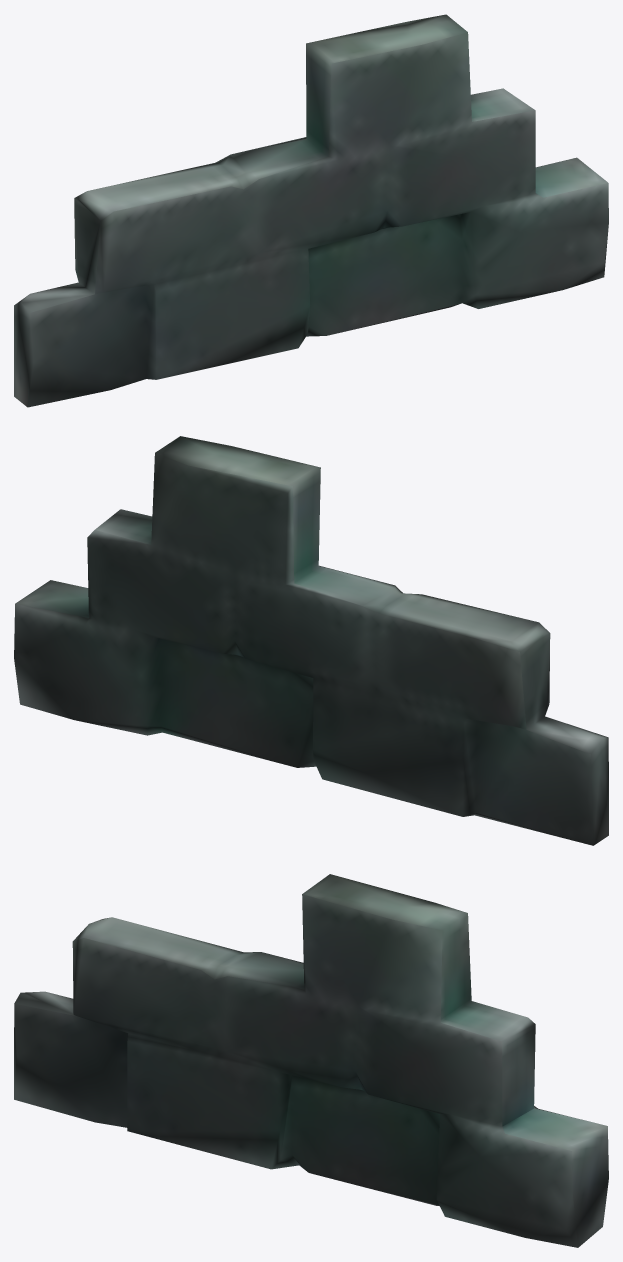
Rendered from stone-wall.lod0.glb.
3 renders of one model, top to bottom at view 1: azimuth 30°, elevation 25°; view 2: azimuth 150°, elevation 25°; view 3: azimuth 330°, elevation 25°, orthographic. The views are drawn at different scales.
Visible parts, largest first — view 1: wall_stone_low_stone_wall_low_0; view 2: wall_stone_low_stone_wall_low_0; view 3: wall_stone_low_stone_wall_low_0.
Boxes of the visible parts, x1,y1,x2,y2 form: wall_stone_low_stone_wall_low_0: (14, 14, 608, 407); wall_stone_low_stone_wall_low_0: (14, 436, 608, 845); wall_stone_low_stone_wall_low_0: (14, 874, 608, 1247).
Size of the model in its own units: 2.31 by 1.1 by 0.2826.
1 material, 1 textured.
